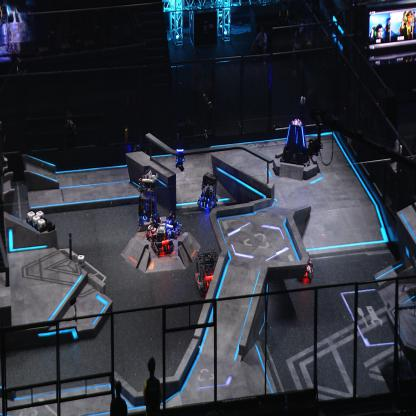car: (196, 247, 220, 297), (137, 174, 158, 224), (150, 220, 174, 255), (197, 170, 218, 209), (294, 249, 314, 281), (162, 208, 181, 238), (145, 212, 162, 240), (130, 142, 147, 165)
